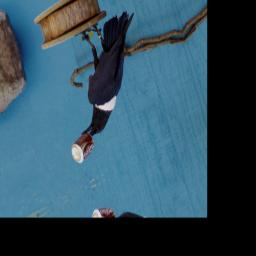Crow: (54, 2, 160, 144)
